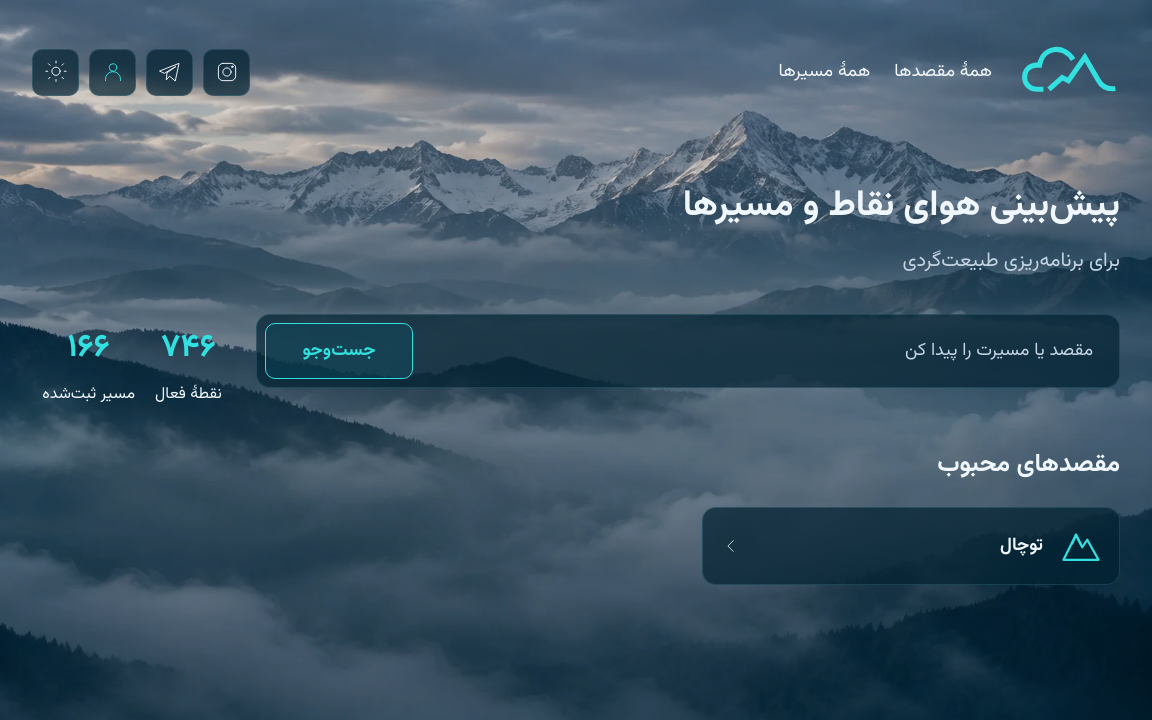
Test: approved week forecast and unchanged public pages › shows actual days beside a paid plan without a progress bar
Check: the text "۷۴۶" is shown, box [161,323,216,373]
What coordinates should you click on to do the following:
click the button named "حساب"
I would click on:
 (112, 72)
Its box is [89,49,136,96].
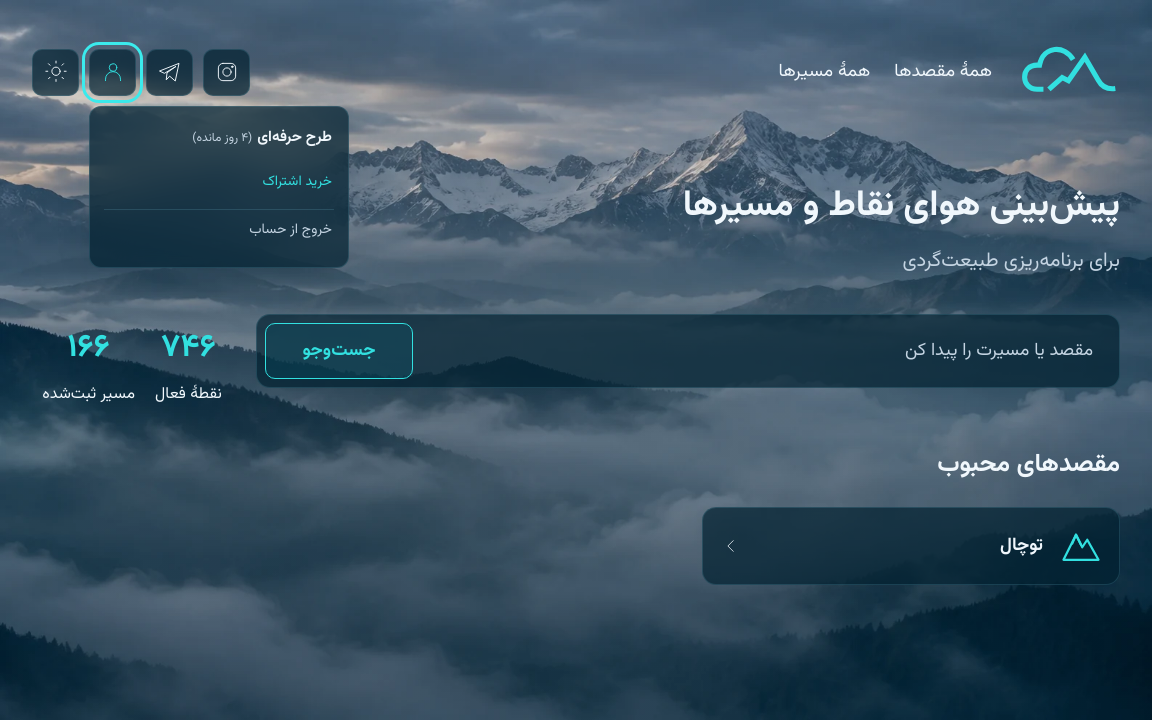
Check: the text "(۴ روز مانده)" is shown, box [192,128,252,148]
